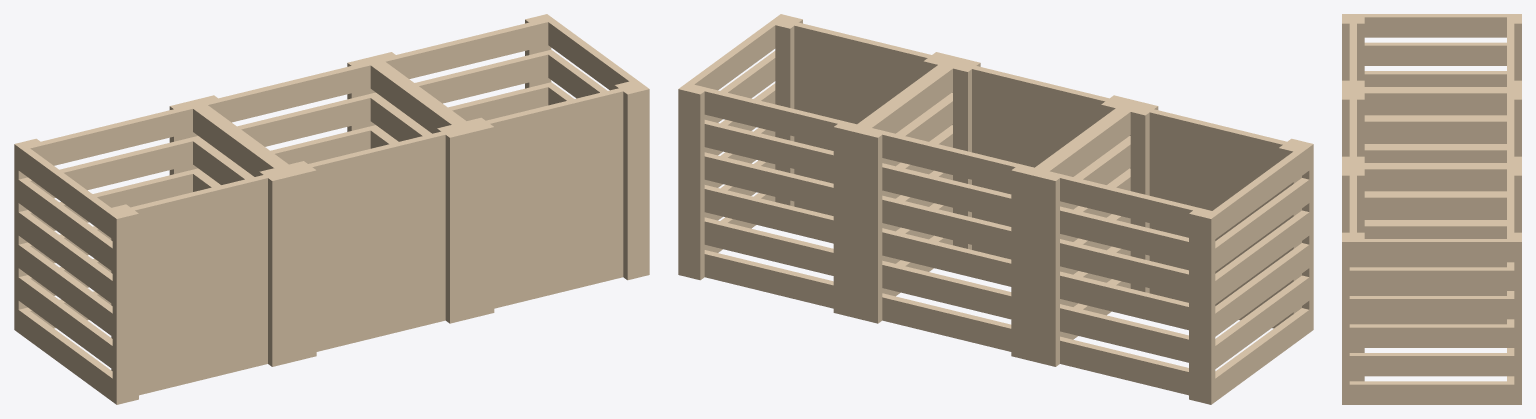
Rendered from Compost_Bins_01.glb.
The picture shows the model from 3 angles, left to right: view 1: azimuth 30°, elevation 25°; view 2: azimuth 150°, elevation 25°; view 3: azimuth 270°, elevation 25°; orthographic projection. The views are drawn at different scales.
Parts seen in each view (by area): view 1: 2x6in Board.069, 2x6in Board.038, 2x6in Board.099, 2x6in Board.039, 2x6in Board.068, 2x6in Board.098, 2x6in Board.119, 2x6in Board.089, 2x6in Board.059, 2x6in Board.127, 2x6in Board.097, 2x6in Board.067 (+42 smaller); view 2: 2x6in Board.071, 2x6in Board.040, 2x6in Board.101, 2x6in Board.041, 2x6in Board.070, 2x6in Board.100, 2x6in Board.119, 2x6in Board.089, 2x6in Board.067, 2x6in Board.127, 2x6in Board.059, 2x6in Board.097 (+42 smaller); view 3: 2x6in Board.103, 2x6in Board.109, 2x6in Board.115, 2x6in Board.106, 2x6in Board.112, 2x6in Board.118, 2x6in Board.057, 2x6in Board.087, 2x6in Board.117, 2x6in Board.054, 2x6in Board.084, 2x6in Board.114 (+34 smaller).
Part boxes in pixels (bbox=[...]): 2x6in Board.069: bbox=[445, 129, 471, 323]; 2x6in Board.038: bbox=[112, 210, 138, 404]; 2x6in Board.099: bbox=[623, 86, 649, 280]; 2x6in Board.039: bbox=[268, 172, 294, 366]; 2x6in Board.068: bbox=[290, 167, 316, 361]; 2x6in Board.098: bbox=[468, 124, 494, 318]; 2x6in Board.119: bbox=[381, 19, 548, 78]; 2x6in Board.089: bbox=[204, 62, 370, 122]; 2x6in Board.059: bbox=[26, 105, 192, 165]; 2x6in Board.127: bbox=[471, 84, 637, 145]; 2x6in Board.097: bbox=[294, 128, 459, 189]; 2x6in Board.067: bbox=[116, 171, 282, 232]; 2x6in Board.071: bbox=[856, 129, 882, 323]; 2x6in Board.040: bbox=[1189, 210, 1215, 404]; 2x6in Board.101: bbox=[678, 86, 704, 280]; 2x6in Board.041: bbox=[1033, 172, 1059, 366]; 2x6in Board.070: bbox=[1011, 167, 1037, 361]; 2x6in Board.100: bbox=[833, 124, 859, 318]; 2x6in Board.119: bbox=[690, 84, 856, 145]; 2x6in Board.089: bbox=[868, 128, 1033, 189]; 2x6in Board.067: bbox=[1135, 105, 1301, 165]; 2x6in Board.127: bbox=[780, 19, 946, 78]; 2x6in Board.059: bbox=[1045, 171, 1211, 232]; 2x6in Board.097: bbox=[957, 62, 1123, 122]; 2x6in Board.103: bbox=[1349, 381, 1514, 404]; 2x6in Board.109: bbox=[1349, 324, 1514, 347]; 2x6in Board.115: bbox=[1349, 267, 1514, 290]; 2x6in Board.106: bbox=[1349, 353, 1514, 376]; 2x6in Board.112: bbox=[1349, 296, 1514, 319]; 2x6in Board.118: bbox=[1349, 239, 1514, 262]; 2x6in Board.057: bbox=[1349, 14, 1514, 37]; 2x6in Board.087: bbox=[1349, 90, 1514, 113]; 2x6in Board.117: bbox=[1349, 166, 1514, 189]; 2x6in Board.054: bbox=[1364, 42, 1506, 65]; 2x6in Board.084: bbox=[1364, 118, 1506, 141]; 2x6in Board.114: bbox=[1364, 194, 1506, 217].
Bounding box in the file's own units: 3.66 × 1.22 × 1.22.
